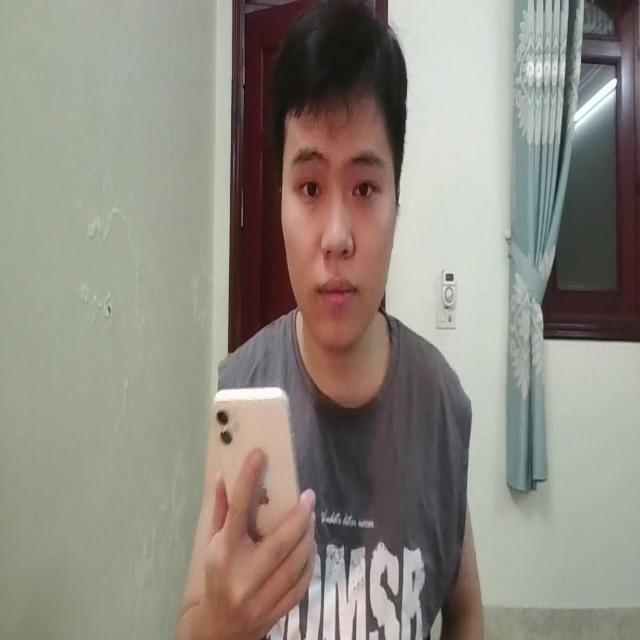phone: (212, 369, 297, 559)
student: (173, 0, 488, 640)
